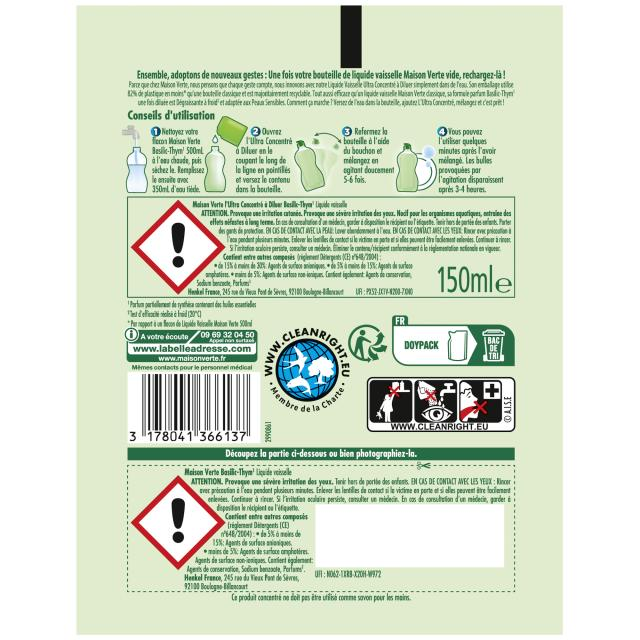GHS_Symbol_EXCLAMATION_MARK: (132, 200, 223, 294), (132, 478, 224, 570)
